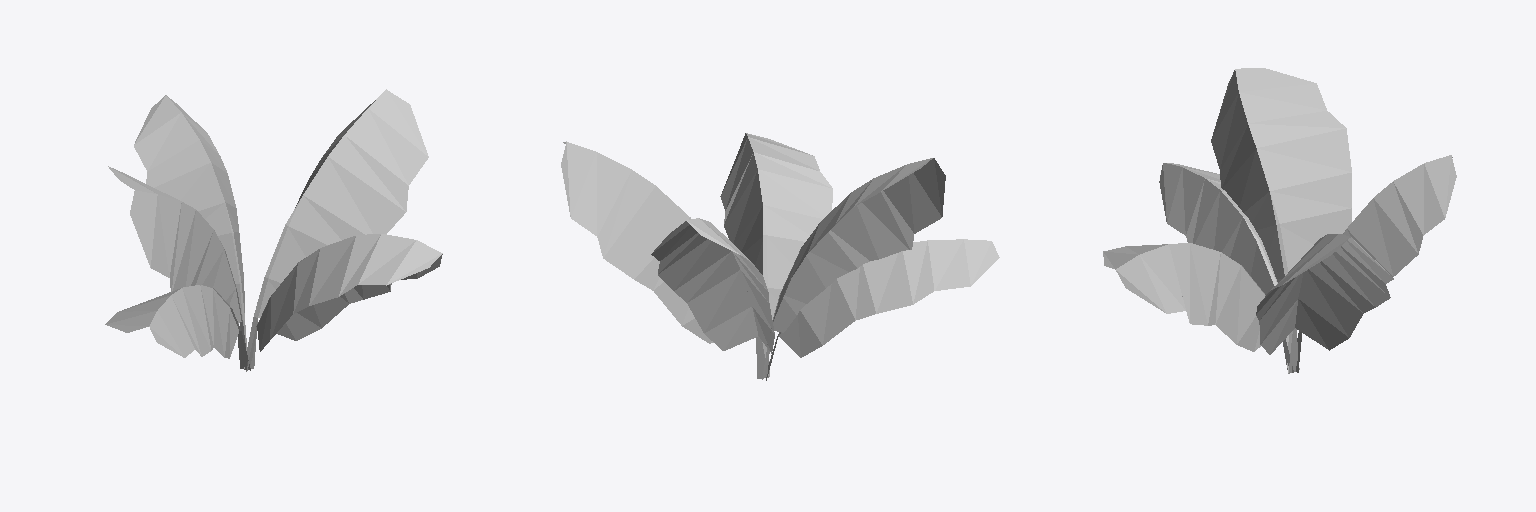
The model's file is banana plant 02_lod3.obj.
3 renders of one model, left to right at view 1: azimuth 30°, elevation 25°; view 2: azimuth 150°, elevation 25°; view 3: azimuth 270°, elevation 25°, orthographic.
Parts seen in each view (by area): view 1: tree; view 2: tree; view 3: tree.
Part boxes in pixels (bbox=[...]): tree: bbox=[105, 89, 442, 371]; tree: bbox=[561, 133, 999, 380]; tree: bbox=[1103, 68, 1456, 373].
Size of the model in its own units: 249 by 155 by 212.